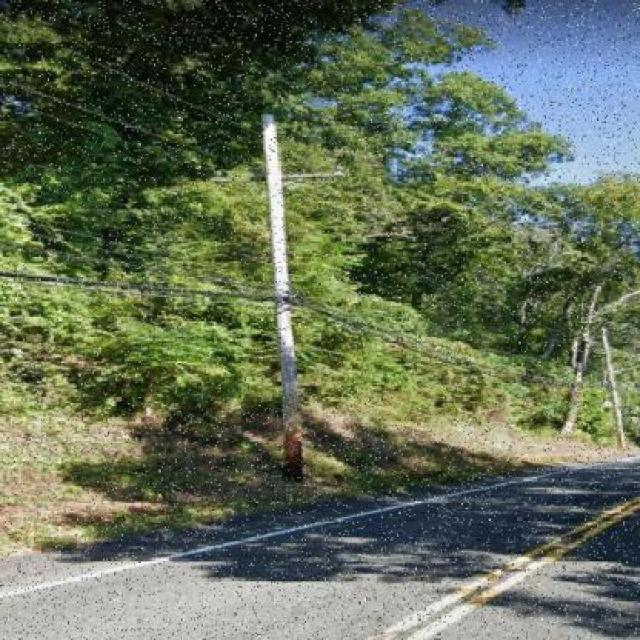pole: (198, 104, 376, 496)
